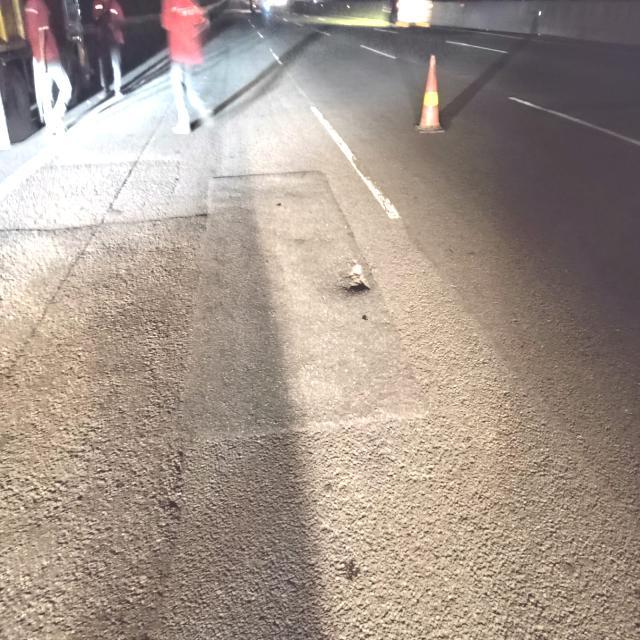Buraco: (339, 256, 374, 296)
